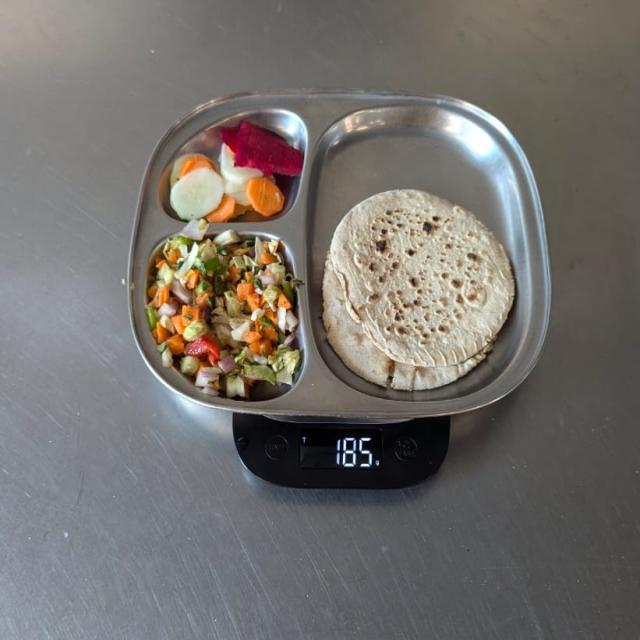Chapati: (323, 186, 517, 388)
Salad: (148, 231, 303, 393), (167, 114, 302, 228)
